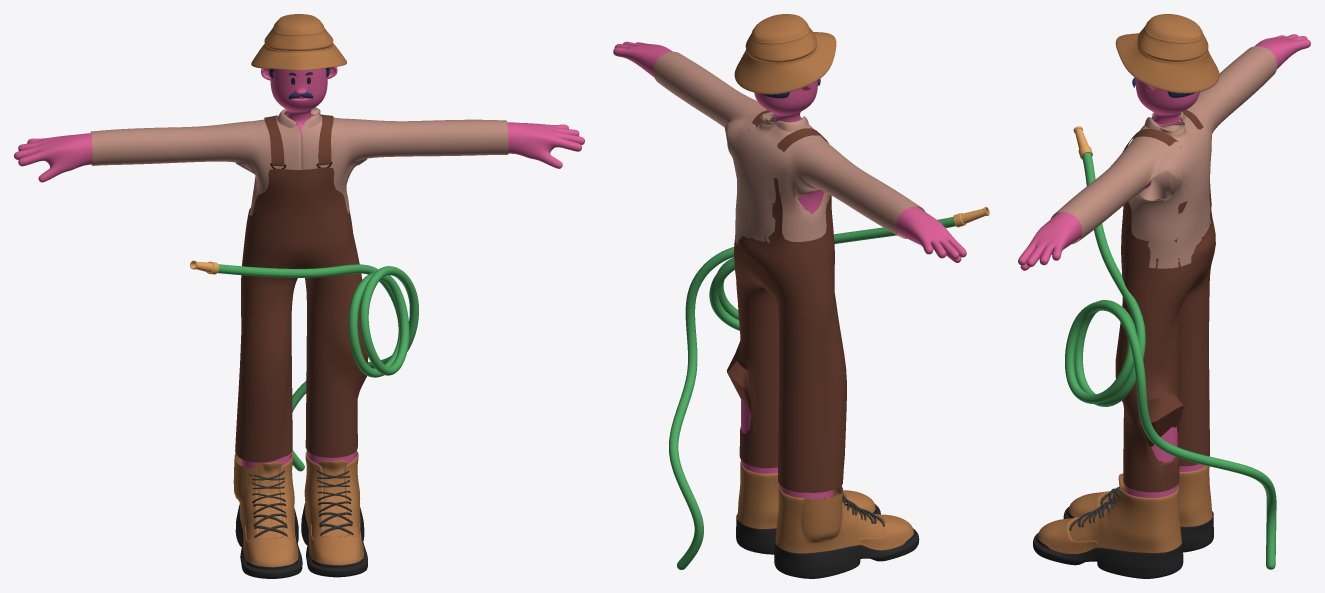
File: prod_3d_1793797423_c1da5480.glb
3 views of the same model, side by side, from view 1: azimuth 30°, elevation 25°; view 2: azimuth 150°, elevation 25°; view 3: azimuth 270°, elevation 25° (orthographic). The views are drawn at different scales.
Visible parts, largest first — view 1: Cube.001, Cube.004, Plane.124, Cube.003, Vert.001, Cube.098; view 2: Cube.001, Cube.004, Plane.124, Cube.098, Cube.003, Vert.001; view 3: Cube.001, Cube.004, Plane.124, Vert.001, Cube.098, Cube.003.
Boxes of the visible parts, x1,y1,x2,y2 form: Cube.001: (235, 114, 368, 462); Cube.004: (90, 107, 508, 216); Plane.124: (233, 450, 367, 578); Cube.003: (14, 68, 584, 468); Vert.001: (218, 264, 418, 471); Cube.098: (251, 14, 346, 70); Cube.001: (727, 110, 846, 492); Cube.004: (653, 51, 925, 244); Plane.124: (736, 461, 919, 578); Cube.098: (734, 14, 836, 94); Cube.003: (613, 41, 966, 499); Vert.001: (669, 217, 955, 569); Cube.001: (1115, 110, 1215, 492); Cube.004: (1051, 46, 1277, 268); Plane.124: (1033, 465, 1213, 578); Vert.001: (1065, 153, 1276, 569); Cube.098: (1115, 14, 1219, 93); Cube.003: (1018, 34, 1310, 497).
Bounding box in the file's own units: 2.97 × 3.24 × 1.6.
